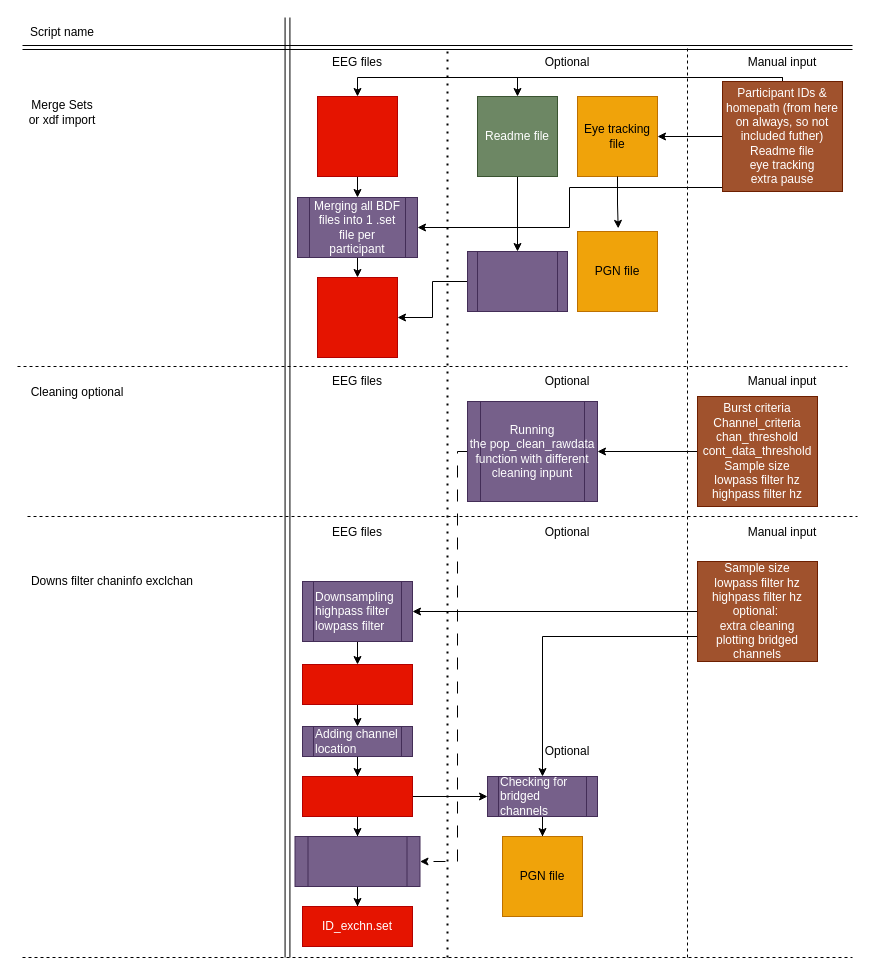
Some shapes in this 876 by 977 pixel diagram are drawn without their labels. The centre of each missing label's shape, as x and y in pixels:
Deleting external channels Cleaning data: point (357, 861)
EEG file (.bdf or .xdf): point (357, 136)
ID.set: point (357, 317)
ID_downft.set: point (357, 684)
ID_info.set: point (357, 796)
Reading from the text file and transforming it: point (517, 281)
